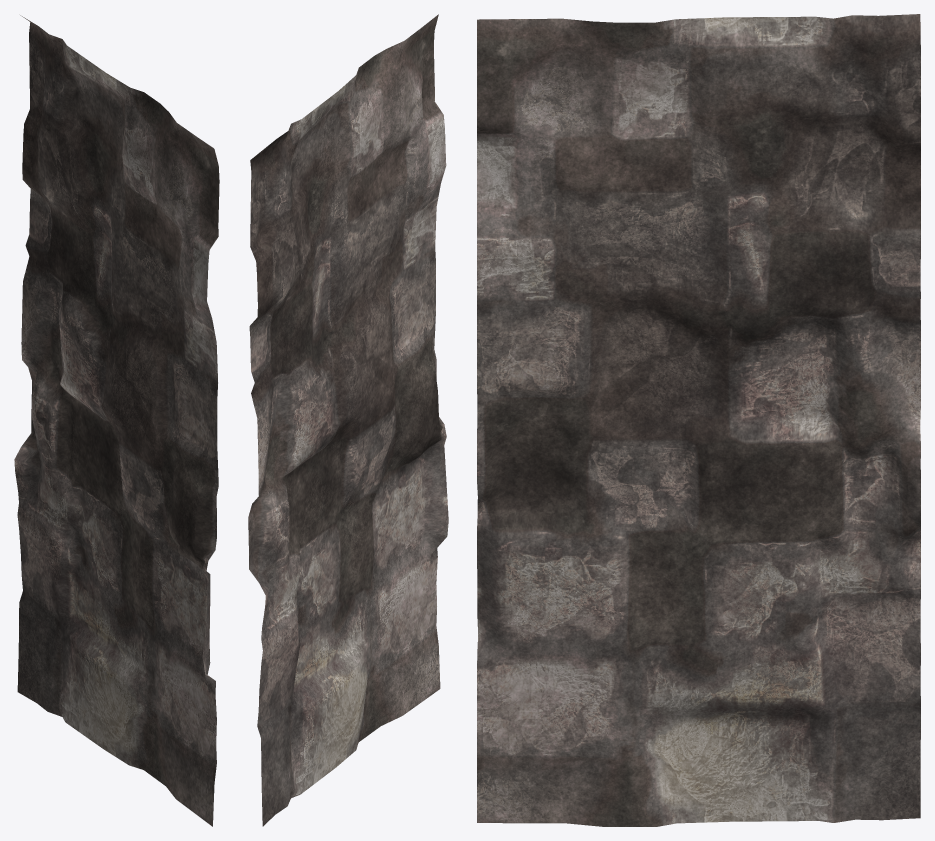
File: SM_StoneWall_B_03.fbx
The picture shows the model from 3 angles, left to right: view 1: azimuth 30°, elevation 25°; view 2: azimuth 150°, elevation 25°; view 3: azimuth 270°, elevation 25°; orthographic projection. The views are drawn at different scales.
Visible parts, largest first — view 1: SM_StoneWall_B_03_LOD0; view 2: SM_StoneWall_B_03_LOD0; view 3: SM_StoneWall_B_03_LOD0.
Part boxes in pixels (bbox=[...]): SM_StoneWall_B_03_LOD0: bbox=[14, 15, 219, 826]; SM_StoneWall_B_03_LOD0: bbox=[248, 14, 448, 826]; SM_StoneWall_B_03_LOD0: bbox=[477, 14, 920, 826].
Size of the model in its own units: 11.81 by 200 by 400.
